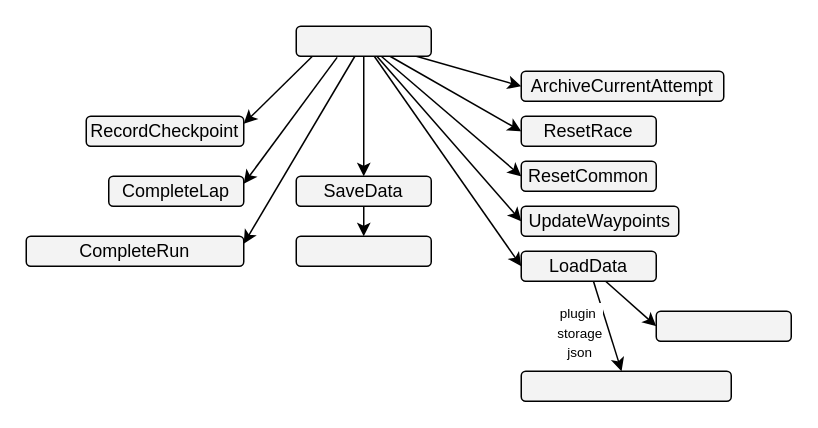
Some shapes in this 818 by 428 pixel diagram are drawn without their labels. Each missing label, with the box of its shape:
BuildStateJson: (295, 235, 431, 266)
InitEmptyState: (655, 310, 791, 341)
PopulateStateFromJson: (520, 370, 731, 401)
Update: (295, 25, 431, 56)
